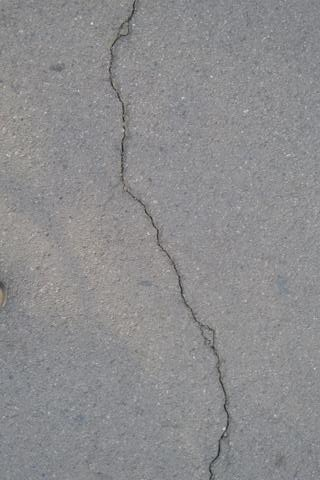A: (107, 2, 233, 480)
